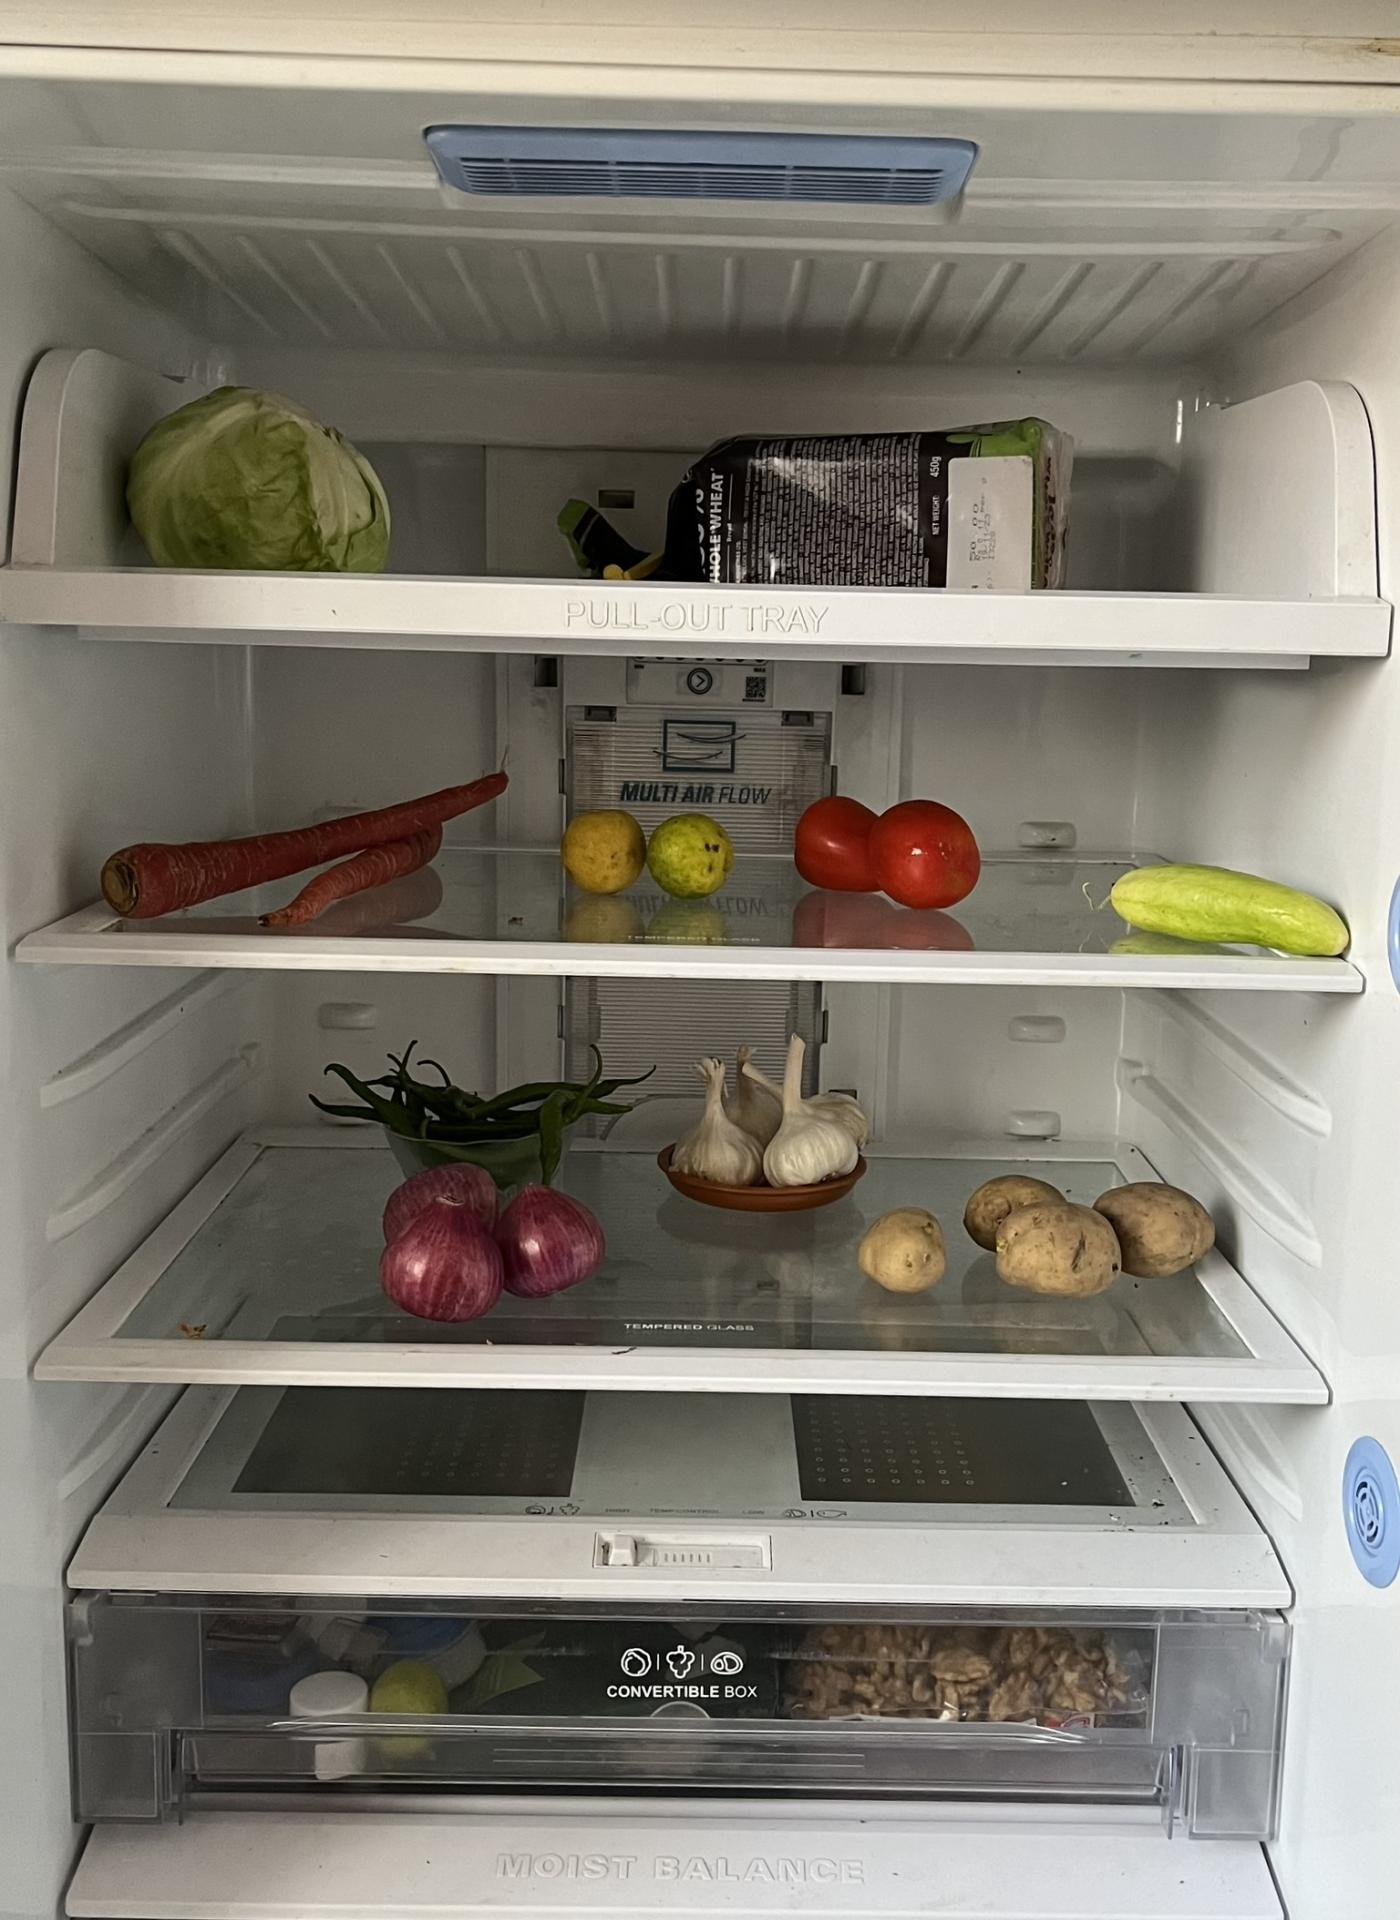bread: (620, 407, 1072, 580)
cabbage: (133, 385, 392, 572)
carrots: (88, 763, 502, 935)
chillies: (328, 1052, 580, 1157)
cucumber: (1106, 869, 1349, 959)
garlic: (677, 1030, 866, 1190)
lemon: (558, 805, 731, 897)
onion: (379, 1164, 599, 1318)
potato: (857, 1181, 1226, 1298)
tomato: (793, 793, 972, 906)
